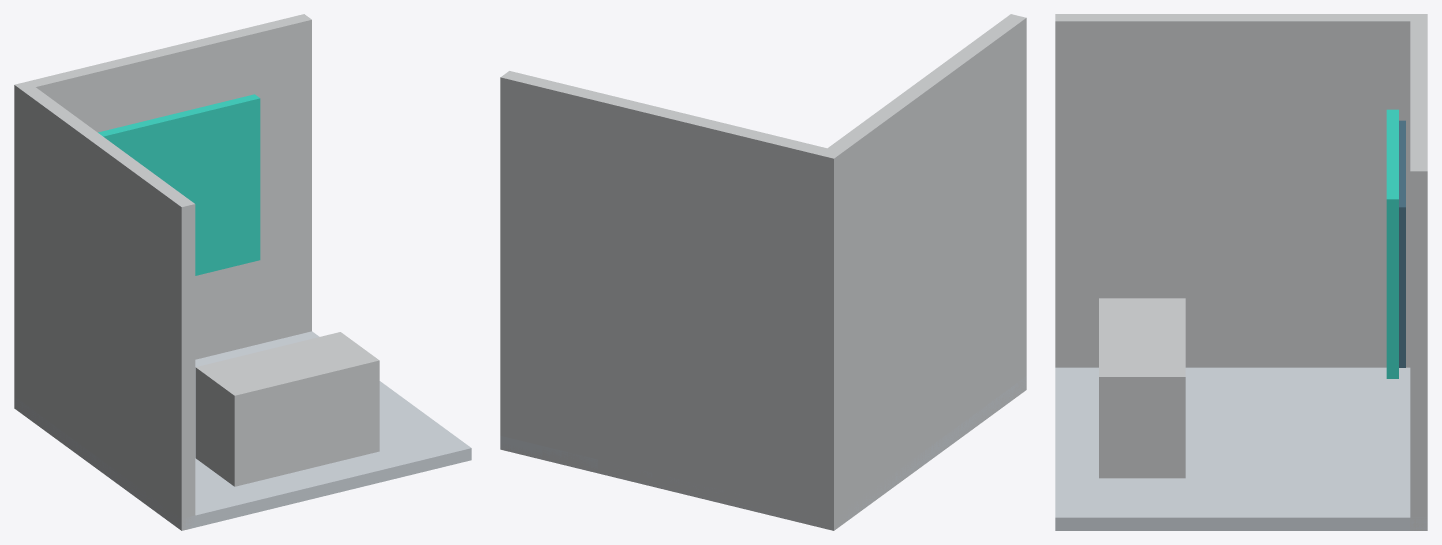
3 views of the same model, side by side, from view 1: azimuth 30°, elevation 25°; view 2: azimuth 150°, elevation 25°; view 3: azimuth 270°, elevation 25° (orthographic). The views are drawn at different scales.
Parts seen in each view (by area): view 1: Exhibition Booth Concept; view 2: Exhibition Booth Concept; view 3: Exhibition Booth Concept.
Boxes of the visible parts, <box> form: Exhibition Booth Concept: <box>14,14,471,530</box>; Exhibition Booth Concept: <box>500,14,1026,530</box>; Exhibition Booth Concept: <box>1055,14,1427,530</box>.
Size of the model in its own units: 3 by 3.2 by 3.
